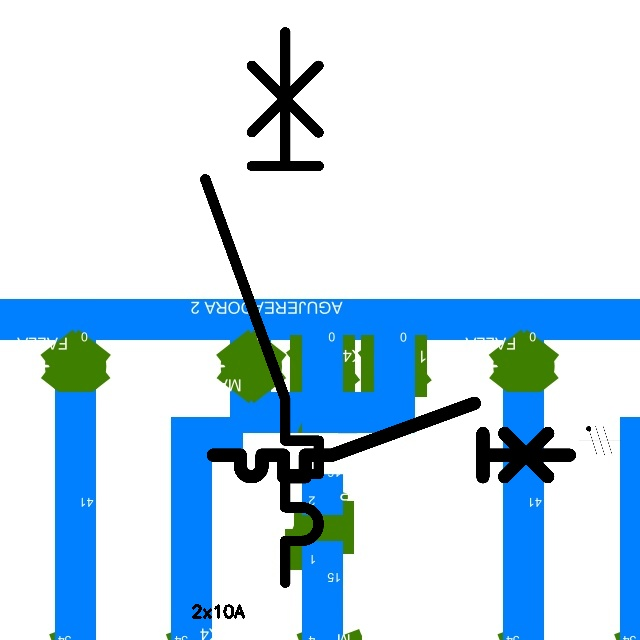interruptor_termomagnetico: (191, 18, 333, 597), (204, 394, 579, 486)
